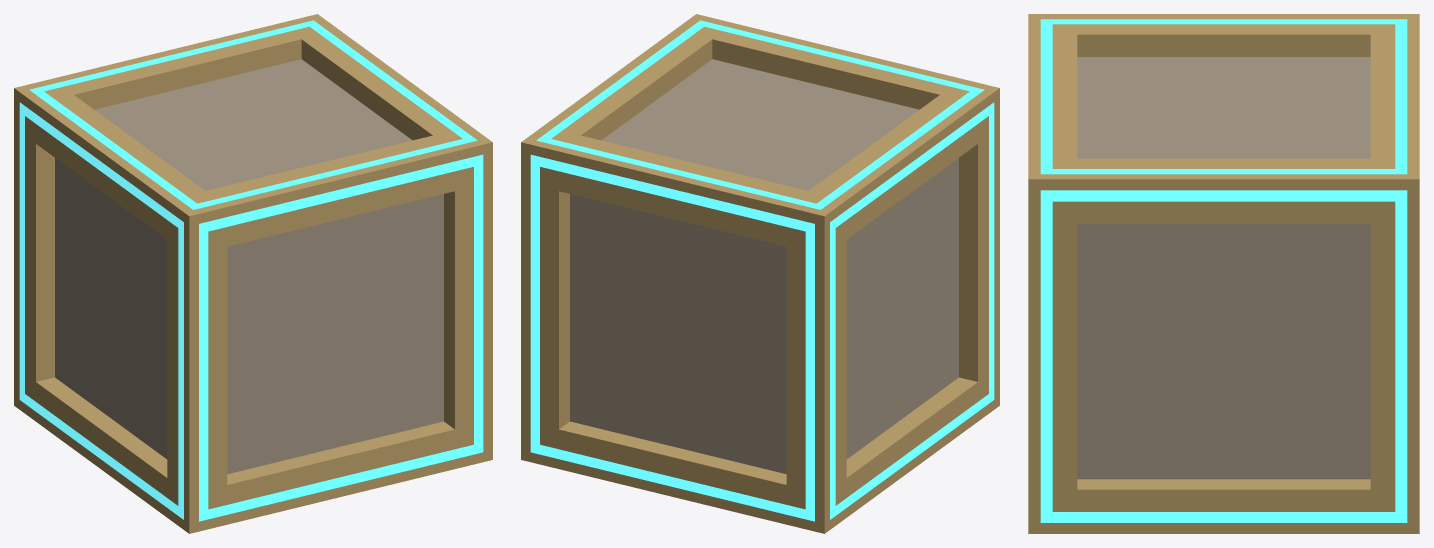
Rendered from Crate.fbx.
The picture shows the model from 3 angles, left to right: view 1: azimuth 30°, elevation 25°; view 2: azimuth 150°, elevation 25°; view 3: azimuth 270°, elevation 25°; orthographic projection. The views are drawn at different scales.
Visible parts, largest first — view 1: Crate; view 2: Crate; view 3: Crate.
Boxes of the visible parts, bbox=[...] form: Crate: bbox=[14, 14, 492, 533]; Crate: bbox=[521, 14, 999, 533]; Crate: bbox=[1028, 14, 1419, 533].
Bounding box in the file's own units: 80 × 80 × 80.
